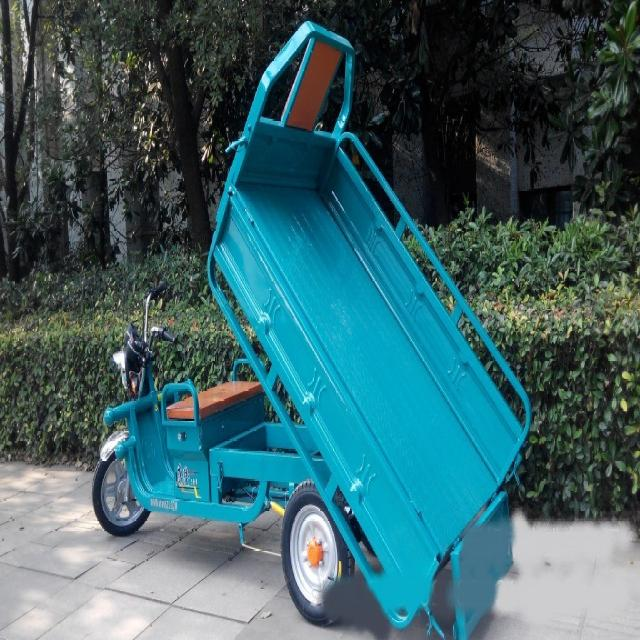tricycle: (90, 19, 531, 639)
